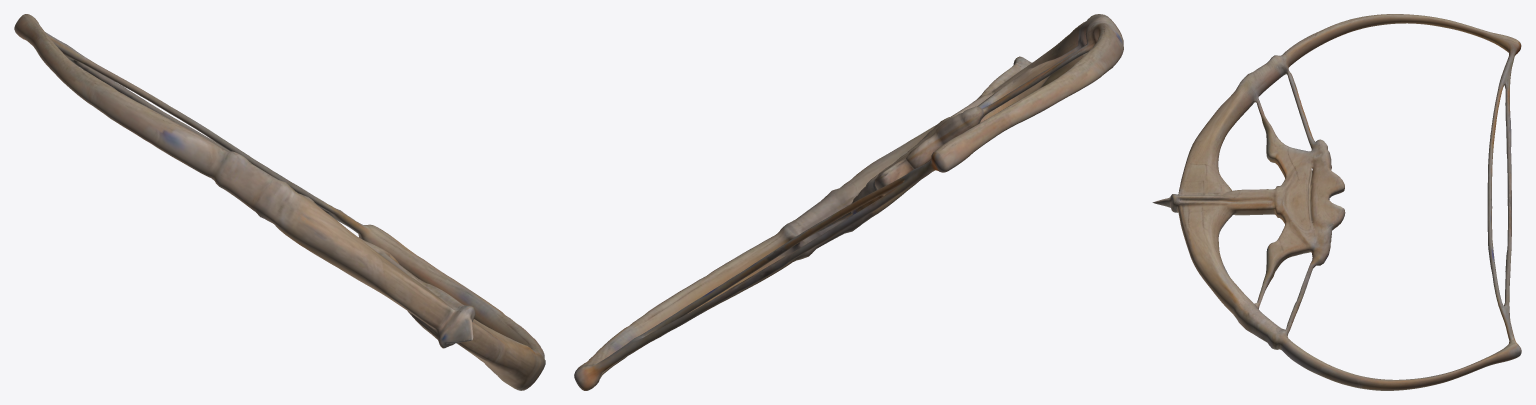
The model's file is Wood Bow.glb.
The picture shows the model from 3 angles, left to right: view 1: azimuth 30°, elevation 25°; view 2: azimuth 150°, elevation 25°; view 3: azimuth 270°, elevation 25°; orthographic projection. The views are drawn at different scales.
Visible parts, largest first — view 1: file1; view 2: file1; view 3: file1.
Part boxes in pixels (x1,y1,x2,y2): file1: (14, 14, 545, 390); file1: (574, 14, 1123, 390); file1: (1152, 14, 1521, 390).
Size of the model in its own units: 1.79 by 1.44 by 1.98.
1 material, 1 textured.
